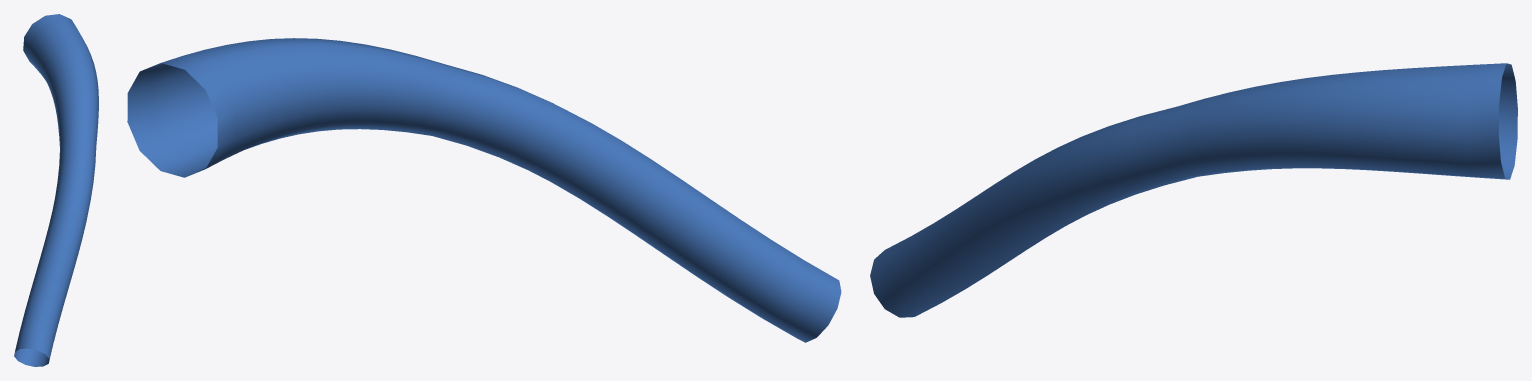
3 renders of one model, left to right at view 1: azimuth 30°, elevation 25°; view 2: azimuth 150°, elevation 25°; view 3: azimuth 270°, elevation 25°, orthographic. The views are drawn at different scales.
Parts seen in each view (by area): view 1: 左侧下颌后静脉后支; view 2: 左侧下颌后静脉后支; view 3: 左侧下颌后静脉后支.
Boxes of the visible parts, left/top/right/bottom form: 左侧下颌后静脉后支: left=14, top=14, right=98, bottom=366; 左侧下颌后静脉后支: left=127, top=38, right=841, bottom=342; 左侧下颌后静脉后支: left=870, top=63, right=1517, bottom=317.
Size of the model in its own units: 0.0155 by 0.0145 by 0.0208.
